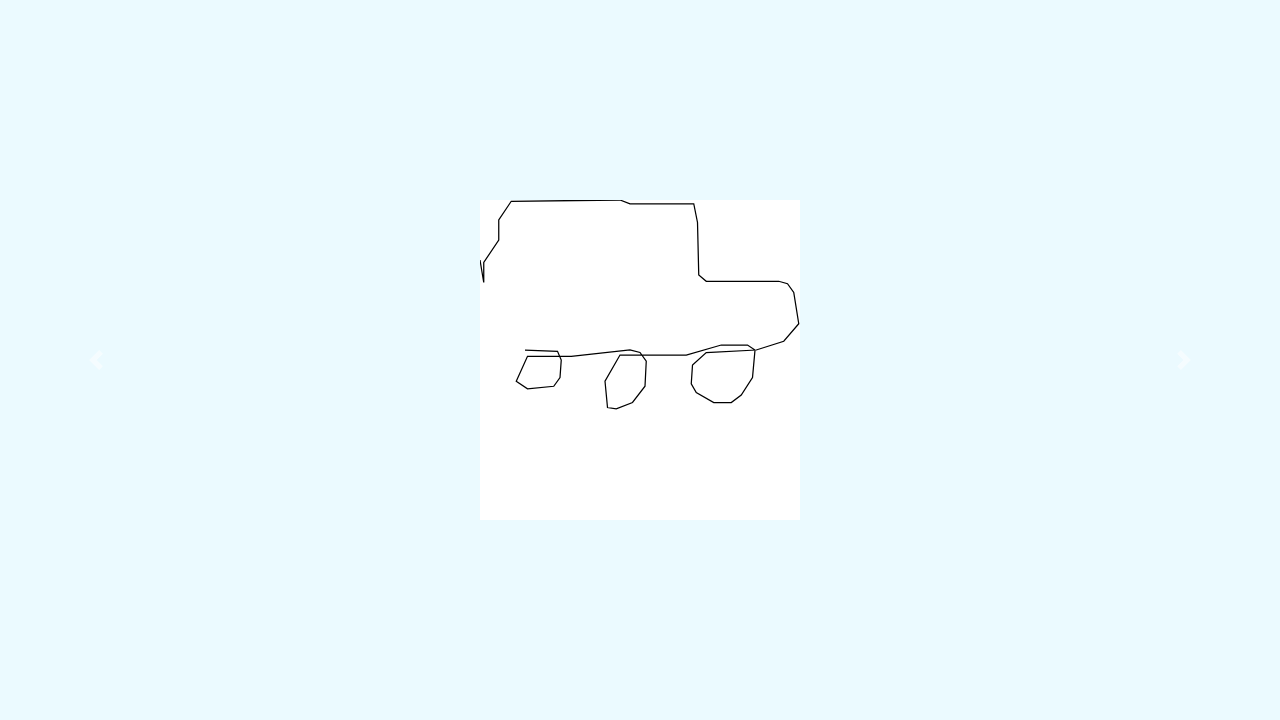car: (475, 196, 804, 412)
